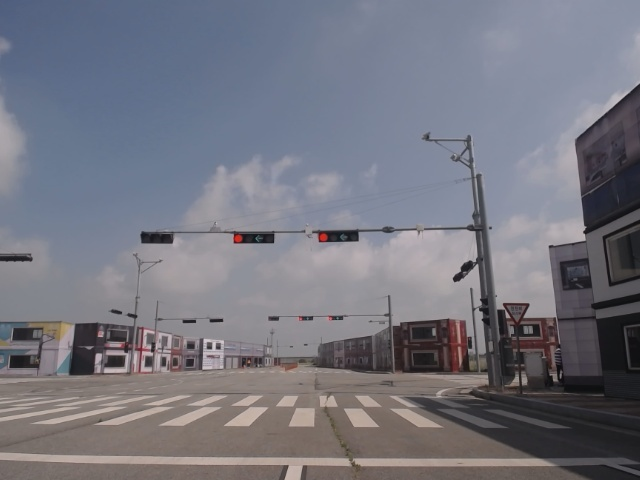left_green_4: (233, 232, 274, 244), (317, 231, 360, 242)
